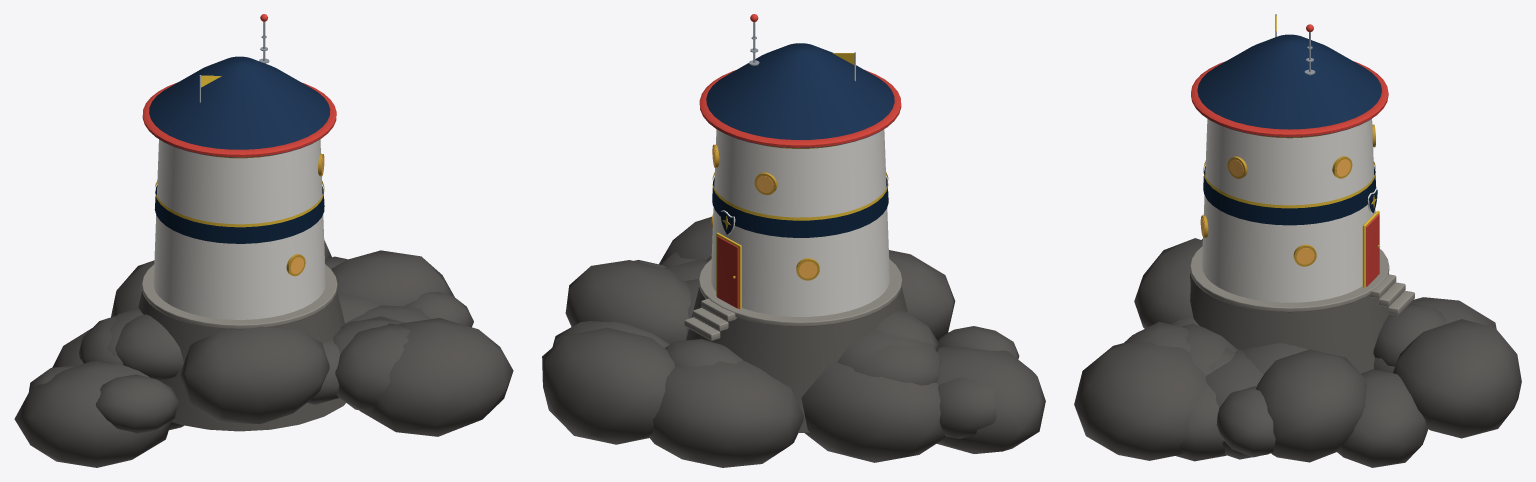
File: farol7_tower.glb
3 views of the same model, side by side, from view 1: azimuth 30°, elevation 25°; view 2: azimuth 150°, elevation 25°; view 3: azimuth 270°, elevation 25° (orthographic). The views are drawn at different scales.
Parts seen in each view (by area): view 1: Farol7_Tower; view 2: Farol7_Tower; view 3: Farol7_Tower.
Part boxes in pixels (<box>): Farol7_Tower: <box>14,14,513,467</box>; Farol7_Tower: <box>542,14,1045,467</box>; Farol7_Tower: <box>1074,14,1521,467</box>.
Bounding box in the file's own units: 15.04 × 12.88 × 13.25.
